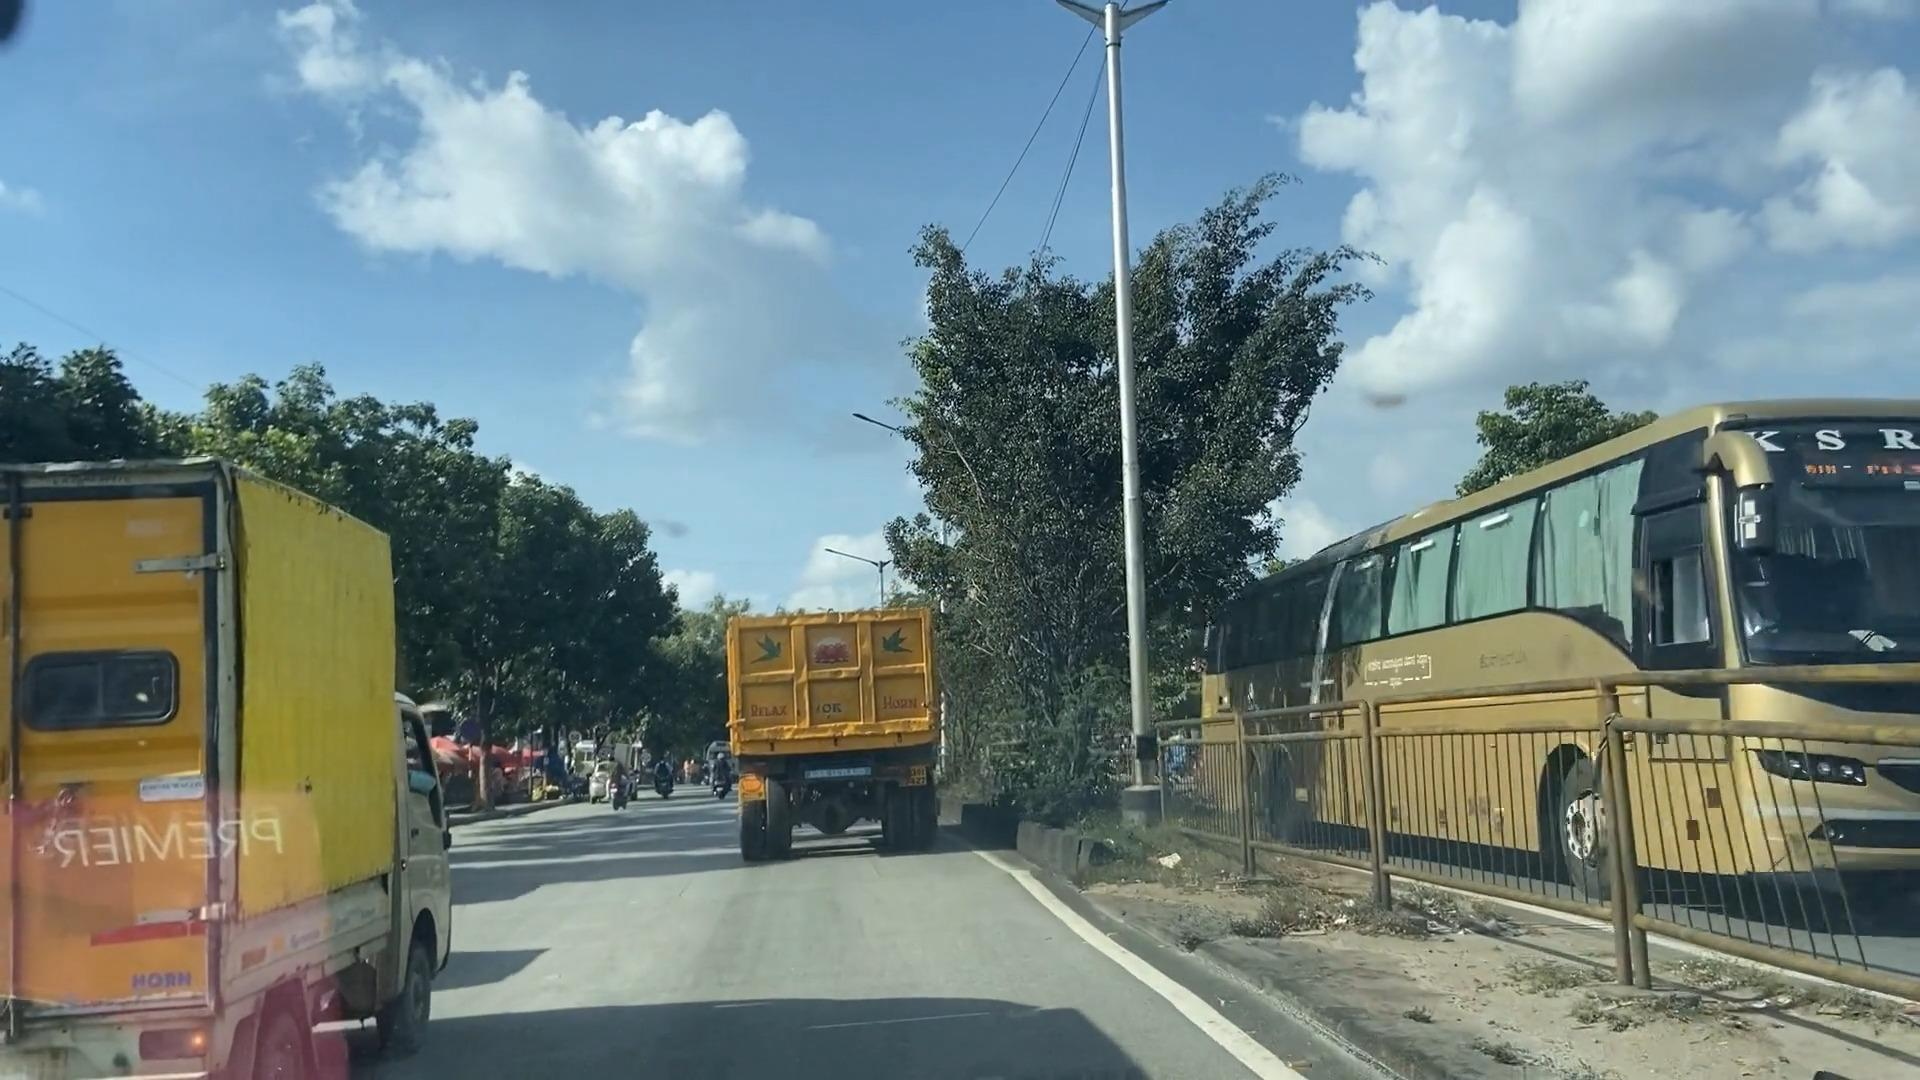HMV: (17, 446, 439, 1056), (727, 604, 942, 841)
